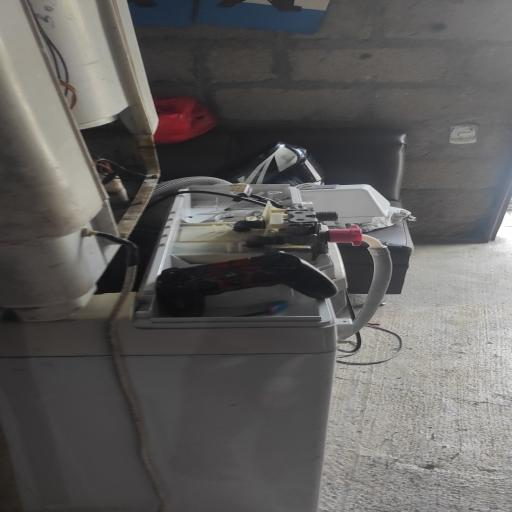ControlPlay4: (155, 251, 337, 317)
